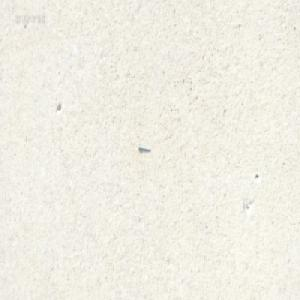Nail: (137, 143, 150, 151)
